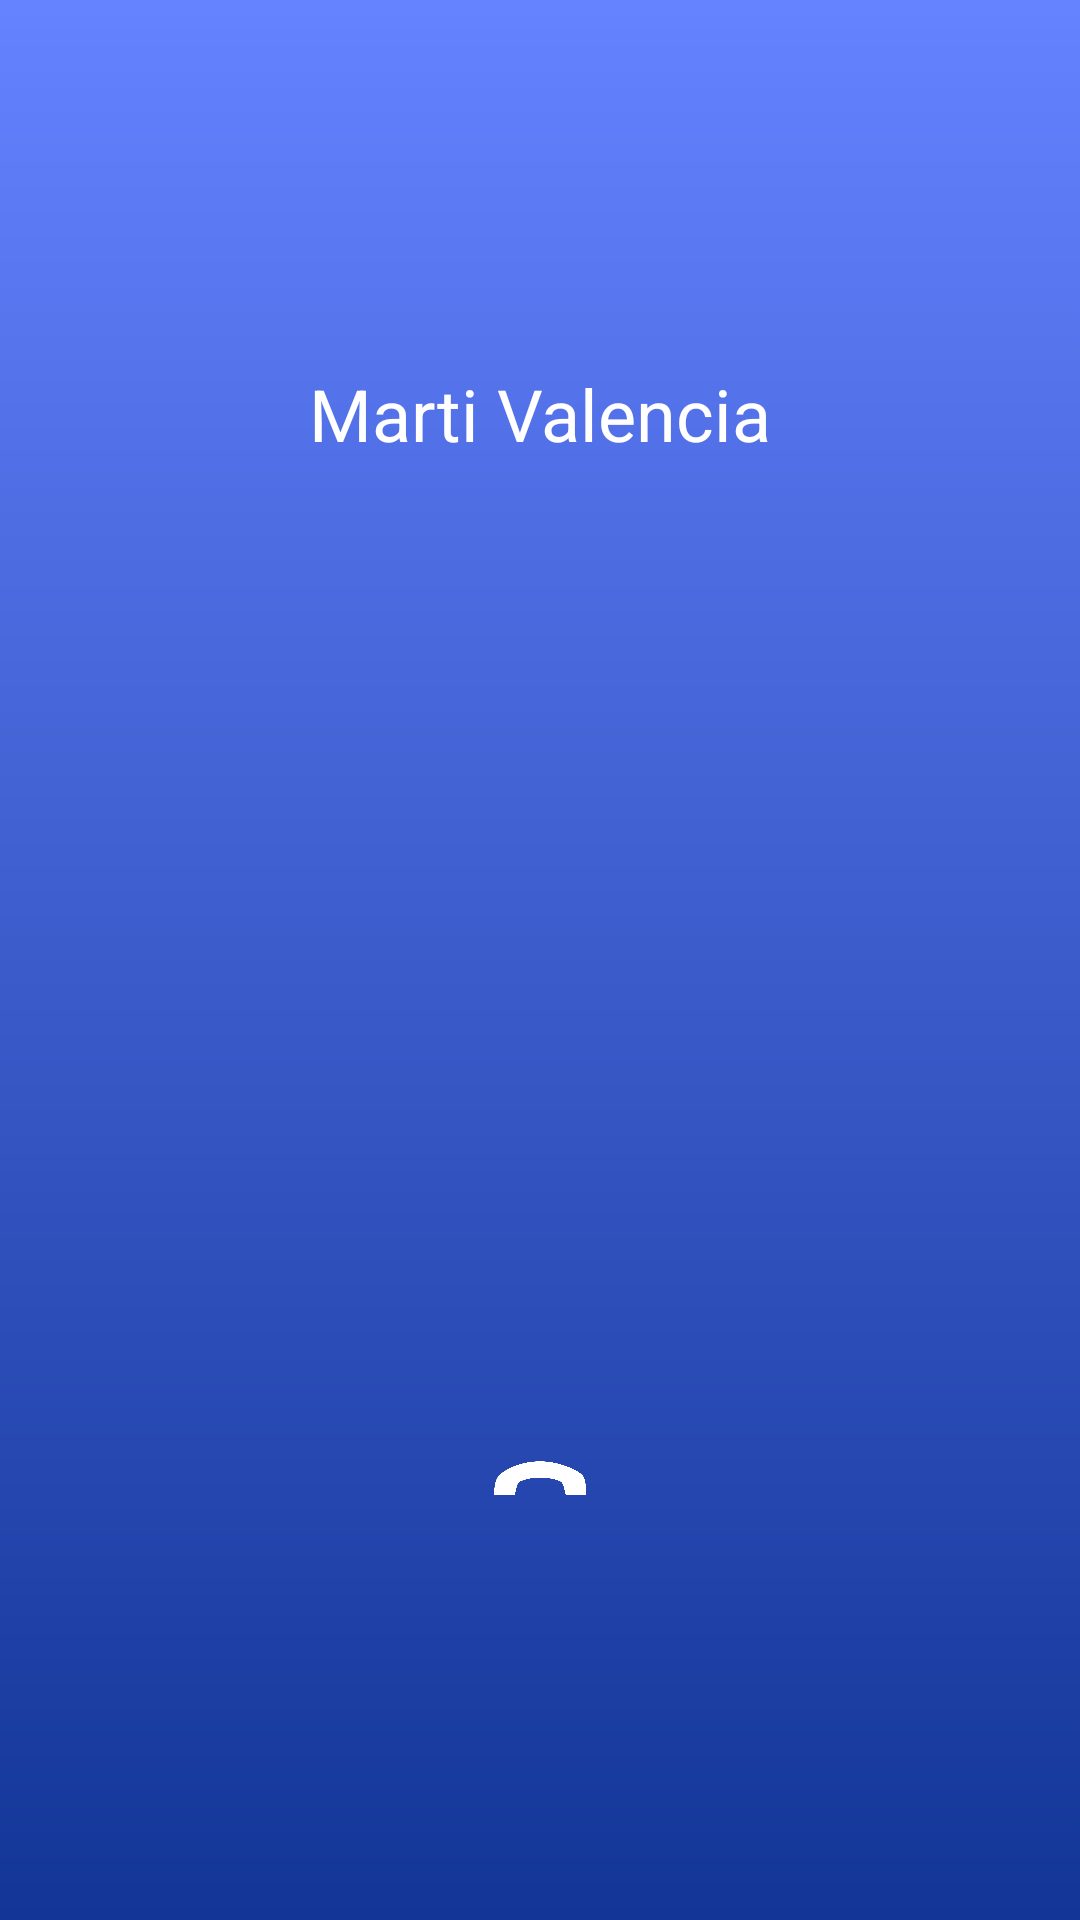

Locate icon controls on the screen. Image size 1080×1920, boxes as bbox=[x1, y1, x2, y2].
call end: bbox=[494, 1461, 586, 1495]
